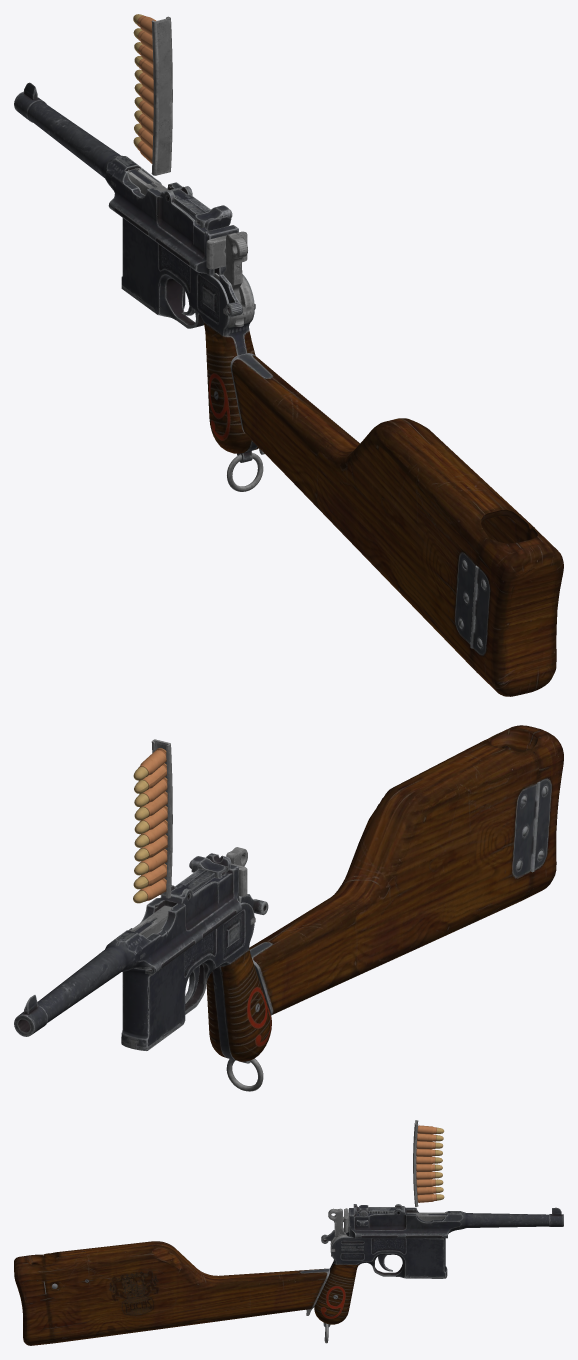
Rendered from mauser-c96.glb.
3 renders of one model, top to bottom at view 1: azimuth 30°, elevation 25°; view 2: azimuth 150°, elevation 25°; view 3: azimuth 270°, elevation 25°, orthographic. The views are drawn at different scales.
Parts seen in each view (by area): view 1: Holster_low, Holster_Cover_low, Frame_low, Barrel_low, Bullet_Plank_low, Bullet_low, Bolt_low, Hammer_low, Rear_sight_bar_low; view 2: Holster_low, Frame_low, Barrel_low, Holster_Cover_low, Bullet_low, Bullet_Plank_low, Bolt_low, Rear_sight_bar_low, Rear_sight_slide_low, Ring_low; view 3: Holster_low, Frame_low, Barrel_low, Holster_Cover_low, Bullet_low, Bolt_low, Bullet_Plank_low, Hammer_low.
Part boxes in pixels (x1,y1,x2,y2): Holster_low: (230,353,534,668); Holster_Cover_low: (470,527,563,696); Frame_low: (121,218,258,462); Barrel_low: (14,82,238,275); Bullet_Plank_low: (151,16,172,175); Bullet_low: (133,14,156,163); Bolt_low: (127,168,247,269); Hammer_low: (223,233,247,303); Rear_sight_bar_low: (172,189,231,230); Holster_low: (249,739,539,1015); Frame_low: (121,902,271,1063); Barrel_low: (14,864,241,1036); Holster_Cover_low: (487,725,563,900); Bullet_low: (133,748,167,903); Bullet_Plank_low: (151,739,172,898); Bolt_low: (130,863,247,937); Rear_sight_bar_low: (171,853,231,896); Rear_sight_slide_low: (189,856,226,878); Ring_low: (226,1058,263,1091); Holster_low: (43,1241,329,1343); Frame_low: (314,1235,447,1327); Barrel_low: (346,1204,563,1238); Holster_Cover_low: (14,1254,52,1345); Bullet_low: (416,1125,444,1202); Bolt_low: (343,1208,447,1232); Bullet_Plank_low: (413,1120,418,1206); Hammer_low: (328,1208,346,1237).
Size of the model in its own units: 4.91 by 30.26 by 68.49.
2 materials, 2 textured.
